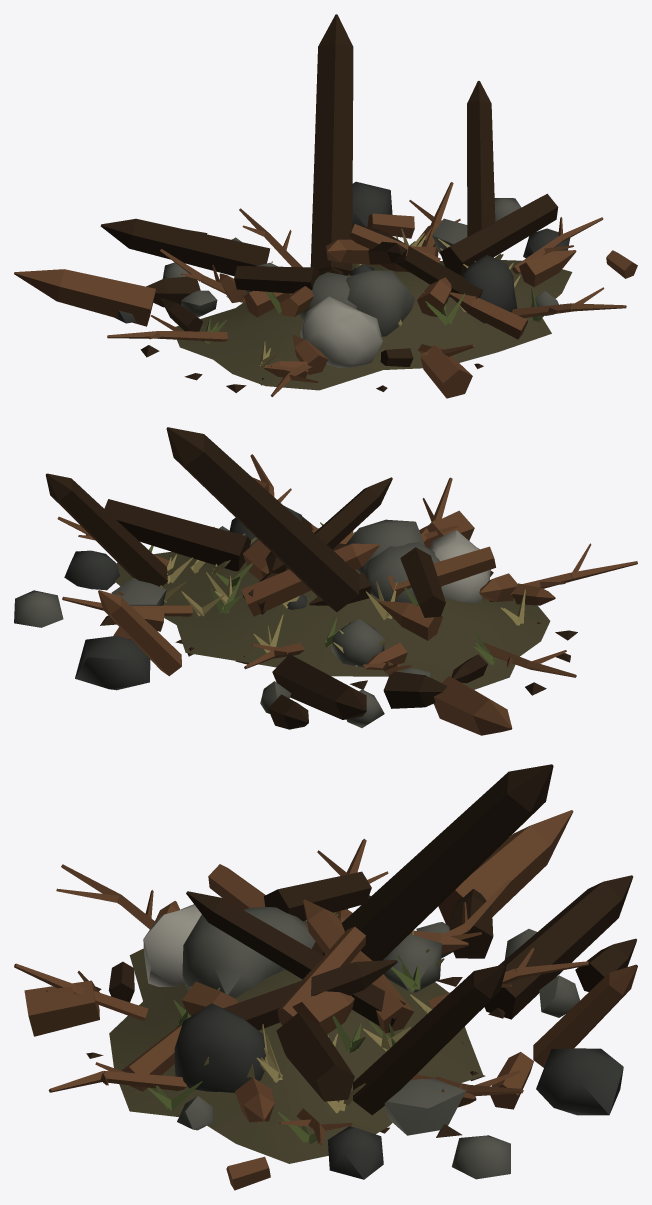
The model's file is ZonWall01a.glb.
The picture shows the model from 3 angles, top to bottom: view 1: azimuth 30°, elevation 25°; view 2: azimuth 150°, elevation 25°; view 3: azimuth 270°, elevation 25°; orthographic projection. The views are drawn at different scales.
Parts seen in each view (by area): view 1: pile_bed; view 2: pile_bed; view 3: pile_bed.
Boxes of the visible parts, bbox=[...] form: pile_bed: bbox=[14, 14, 637, 398]; pile_bed: bbox=[14, 427, 637, 735]; pile_bed: bbox=[14, 764, 637, 1190].
Size of the model in its own units: 5.28 by 2.39 by 4.15.
